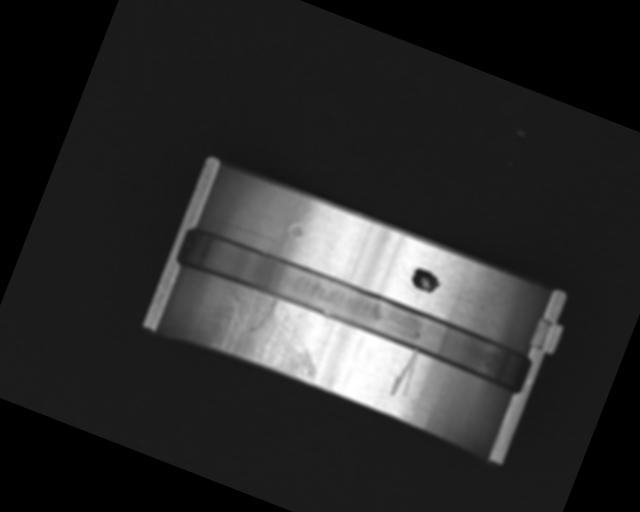blot: (407, 266, 444, 297)
bruise: (284, 219, 307, 245)
gap: (174, 222, 535, 396)
nick: (387, 345, 424, 401)
scratch: (201, 276, 337, 388)
